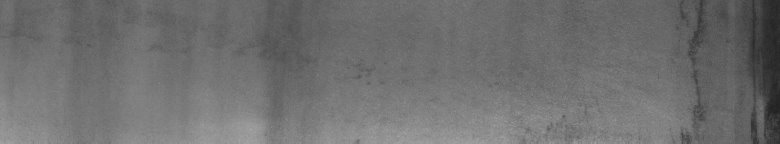ka: (676, 4, 776, 136)
